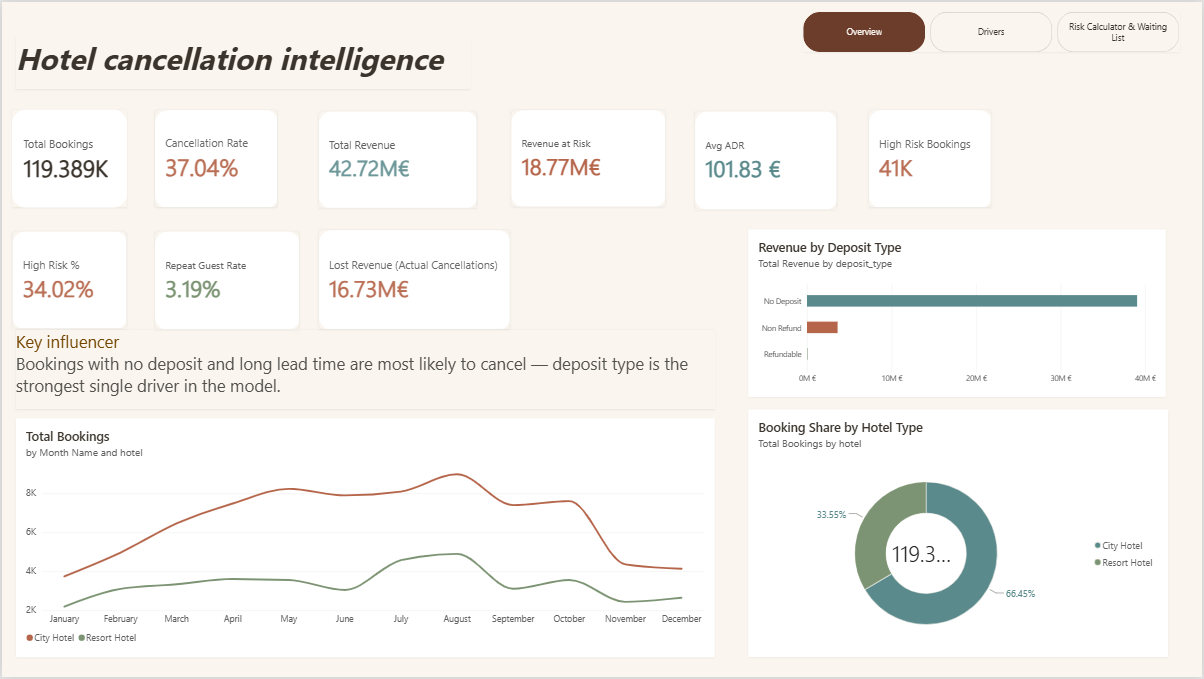

Layout of this report page (visuals, bound fields, positions):
{"tool":"powerbi","page":{"name":"Overview","canvas":[1920,1080],"ordinal":0},"visuals":[{"type":"textbox","box":[22,56,728,84],"z":0},{"type":"cardVisual","title":"Total Bookings","fields":{"Data":["_Measures.Total Bookings"]},"box":[16.7,171.7,184,157],"z":1000},{"type":"cardVisual","fields":{"Data":["_Measures.Cancellation Rate"]},"box":[244,172,197,157],"z":2000},{"type":"cardVisual","fields":{"Data":["_Measures.Total Revenue"]},"box":[506,174,254,156],"z":3000},{"type":"cardVisual","fields":{"Data":["_Measures.Revenue at Risk"]},"box":[814,172,248,156],"z":4000},{"type":"cardVisual","fields":{"Data":["_Measures.Avg ADR"]},"box":[1108,174,228,158],"z":5000},{"type":"cardVisual","fields":{"Data":["_Measures.Repeat Guest Rate"]},"box":[244,366,232,158],"z":6000},{"type":"donutChart","title":"Booking Share by Hotel Type","fields":{"Category":["hotel_ml_scored.hotel"],"Y":["_Measures.Total Bookings"]},"box":[1194,652,672,396],"z":8000},{"type":"cardVisual","fields":{"Data":["_Measures.High Risk Bookings"]},"box":[1386,172,197,157],"z":9000},{"type":"cardVisual","fields":{"Data":["_Measures.High Risk %"]},"box":[16,366,184.3,157.1],"z":10000},{"type":"cardVisual","fields":{"Data":["_Measures.Lost Revenue (Actual Cancellations)"]},"box":[506,364,307.5,160],"z":11000},{"type":"clusteredBarChart","title":"Revenue by Deposit Type","fields":{"Category":["hotel_ml_scored.deposit_type"],"Y":["_Measures.Total Revenue"]},"box":[1194,364,668,268],"z":12000},{"type":"pageNavigator","box":[1282,16,602,64],"z":13001},{"type":"lineChart","fields":{"Category":["Dim_Date.Month Name"],"Series":["hotel_ml_scored.hotel"],"Y":["_Measures.Total Bookings"]},"box":[22,666,1118,382],"z":13002},{"type":"textbox","box":[22,524,1118,128],"z":13003}]}

Visuals, with their boxes in screenshot pixels (x1, y1, x2, y2), scaled from the page's 1920x1080 canvas onto the 1204x679 screenshot:
textbox: bbox=(14, 35, 470, 88)
"Total Bookings" cardVisual: bbox=(10, 108, 126, 207)
cardVisual - _Measures.Cancellation Rate: bbox=(153, 108, 277, 207)
cardVisual - _Measures.Total Revenue: bbox=(317, 109, 477, 207)
cardVisual - _Measures.Revenue at Risk: bbox=(510, 108, 666, 206)
cardVisual - _Measures.Avg ADR: bbox=(695, 109, 838, 209)
cardVisual - _Measures.Repeat Guest Rate: bbox=(153, 230, 298, 329)
"Booking Share by Hotel Type" donutChart: bbox=(749, 410, 1170, 659)
cardVisual - _Measures.High Risk Bookings: bbox=(869, 108, 993, 207)
cardVisual - _Measures.High Risk %: bbox=(10, 230, 126, 329)
cardVisual - _Measures.Lost Revenue (Actual Cancellations): bbox=(317, 229, 510, 329)
"Revenue by Deposit Type" clusteredBarChart: bbox=(749, 229, 1168, 397)
pageNavigator: bbox=(804, 10, 1181, 50)
lineChart - Dim_Date.Month Name x hotel_ml_scored.hotel: bbox=(14, 419, 715, 659)
textbox: bbox=(14, 329, 715, 410)
